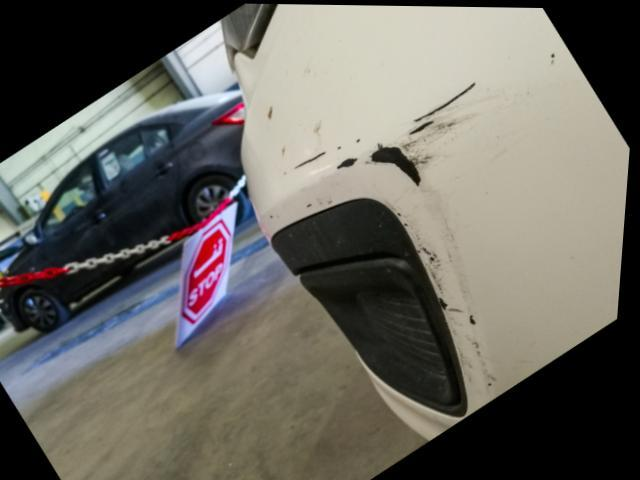scratch: (288, 69, 507, 389)
